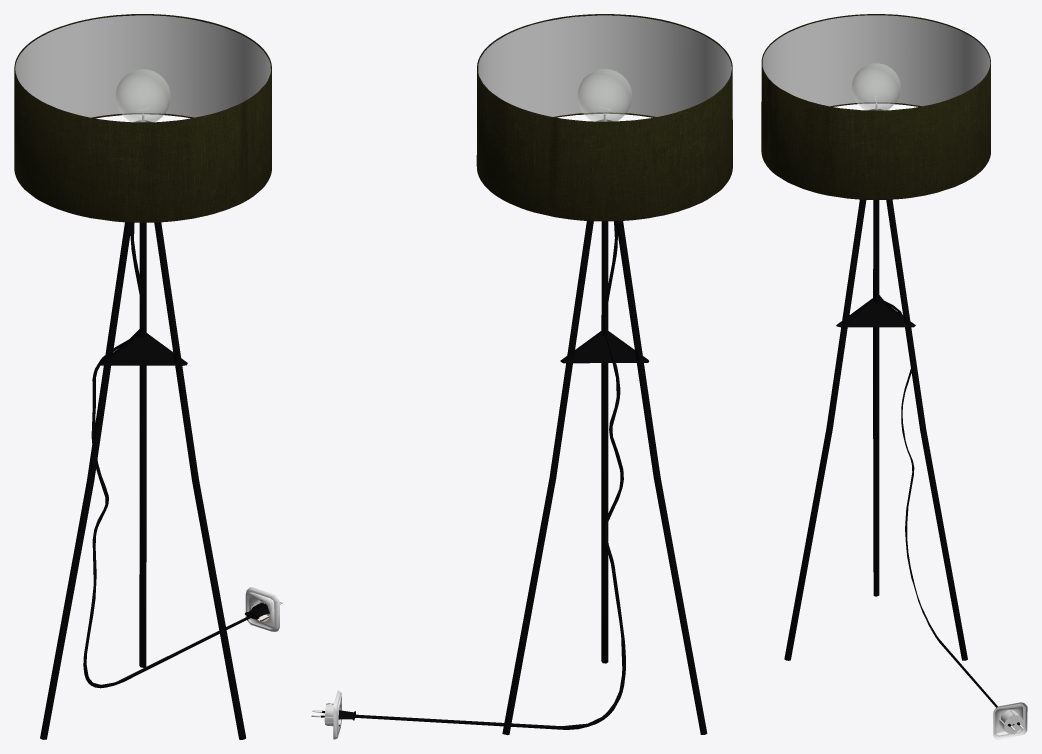
Rendered from floor-lamp-modern-web.glb.
3 views of the same model, side by side, from view 1: azimuth 30°, elevation 25°; view 2: azimuth 150°, elevation 25°; view 3: azimuth 270°, elevation 25° (orthographic). The views are drawn at different scales.
Visible parts, largest first — view 1: Object_4, Object_5, Object_22; view 2: Object_4, Object_5, Object_22; view 3: Object_4, Object_5, Object_22.
Boxes of the visible parts, <box> form: Object_4: <box>15,15,282,739</box>; Object_5: <box>14,14,271,222</box>; Object_22: <box>115,69,170,122</box>; Object_4: <box>311,15,731,739</box>; Object_5: <box>476,14,732,221</box>; Object_22: <box>577,69,632,121</box>; Object_4: <box>762,15,1027,739</box>; Object_5: <box>761,14,990,199</box>; Object_22: <box>851,63,900,110</box>.
Size of the model in its own units: 4.03 by 7.77 by 3.17.
4 materials, 4 textured.
